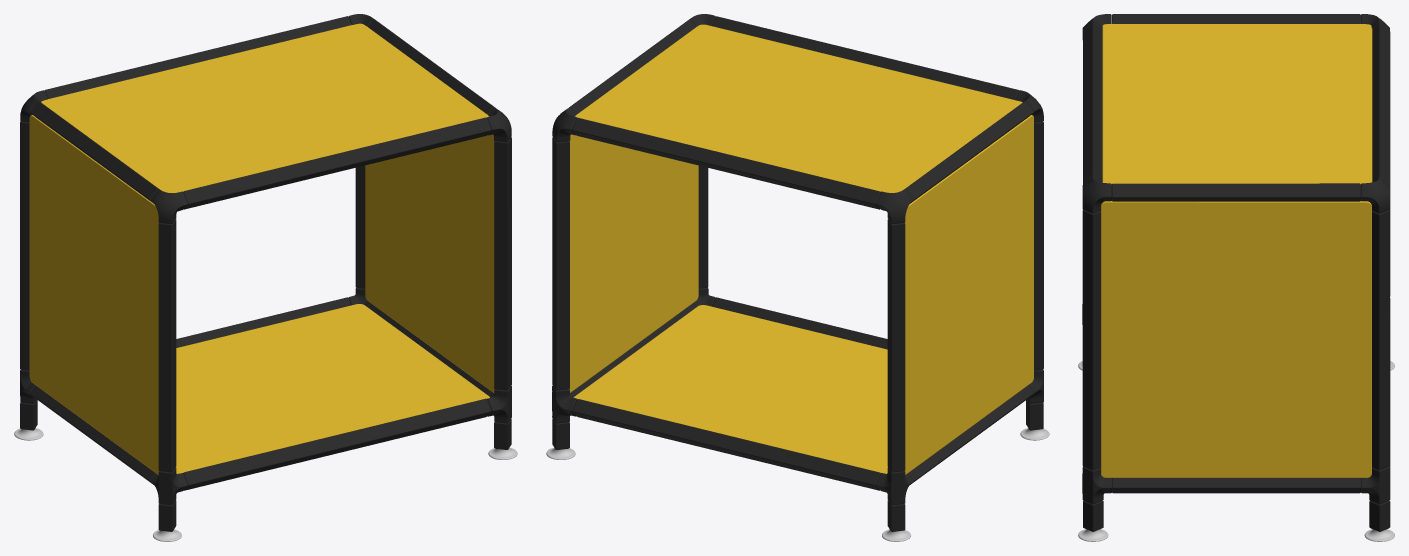
3 renders of one model, left to right at view 1: azimuth 30°, elevation 25°; view 2: azimuth 150°, elevation 25°; view 3: azimuth 270°, elevation 25°, orthographic. The views are drawn at different scales.
Visible parts, largest first — view 1: 479x329x374; view 2: 479x329x374; view 3: 479x329x374.
Part boxes in pixels (box(x1,y1,x2,y2)): 479x329x374: box(14, 14, 517, 541); 479x329x374: box(546, 14, 1049, 541); 479x329x374: box(1078, 14, 1394, 541).
Size of the model in its own units: 0.5689 by 0.5132 by 0.4183.
